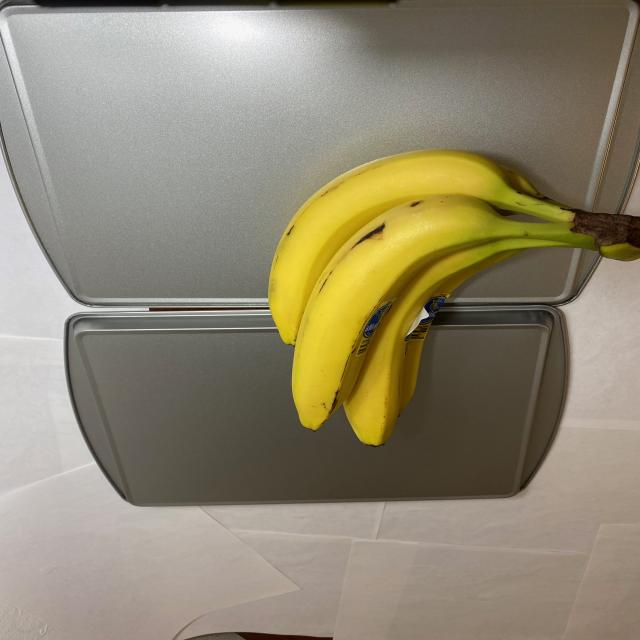banana: (262, 145, 635, 449)
